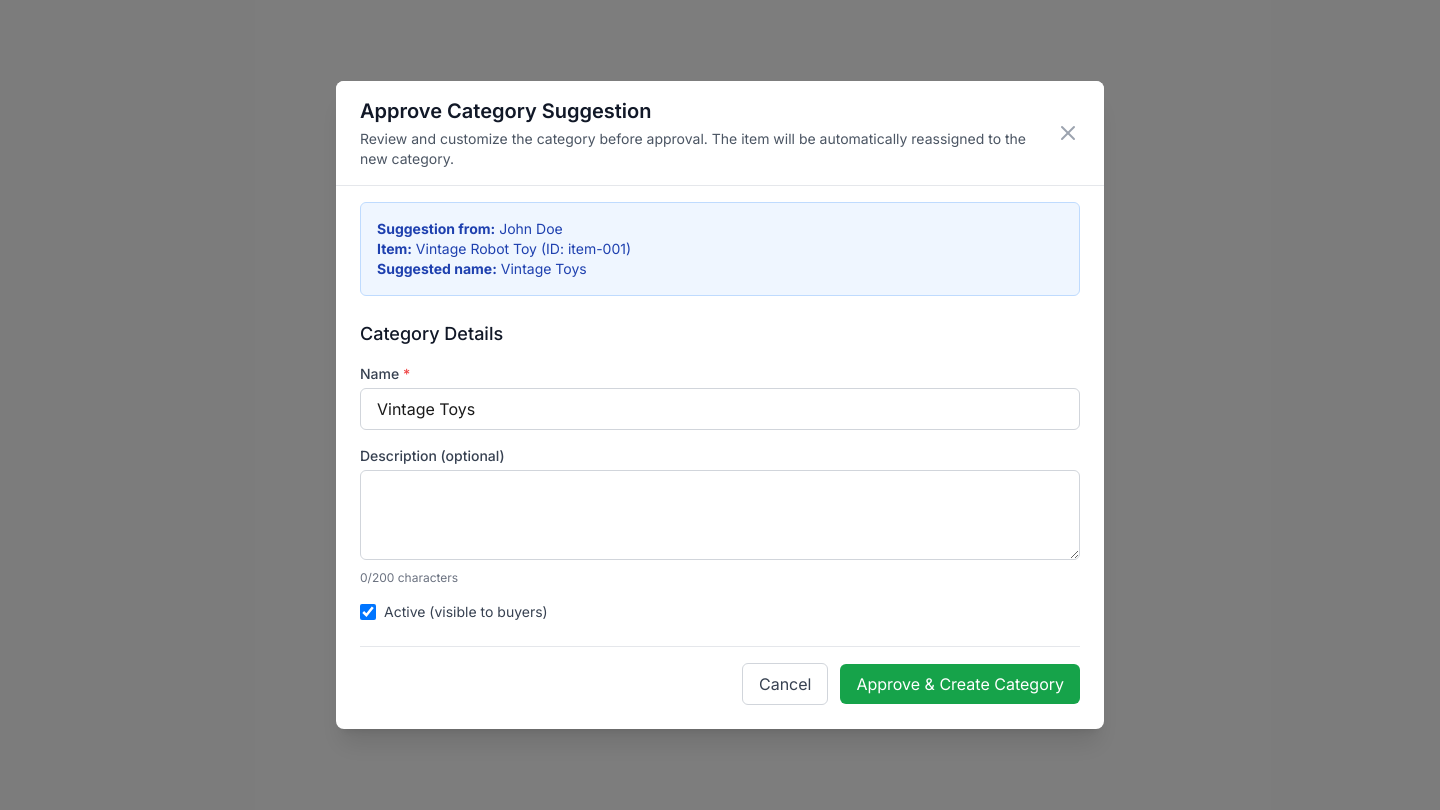
ApproveSuggestionModal › validates required name field
Step 1. Clear the field with test id "approve-form-name" → (720, 409), box left=360, top=388, right=1080, bottom=430
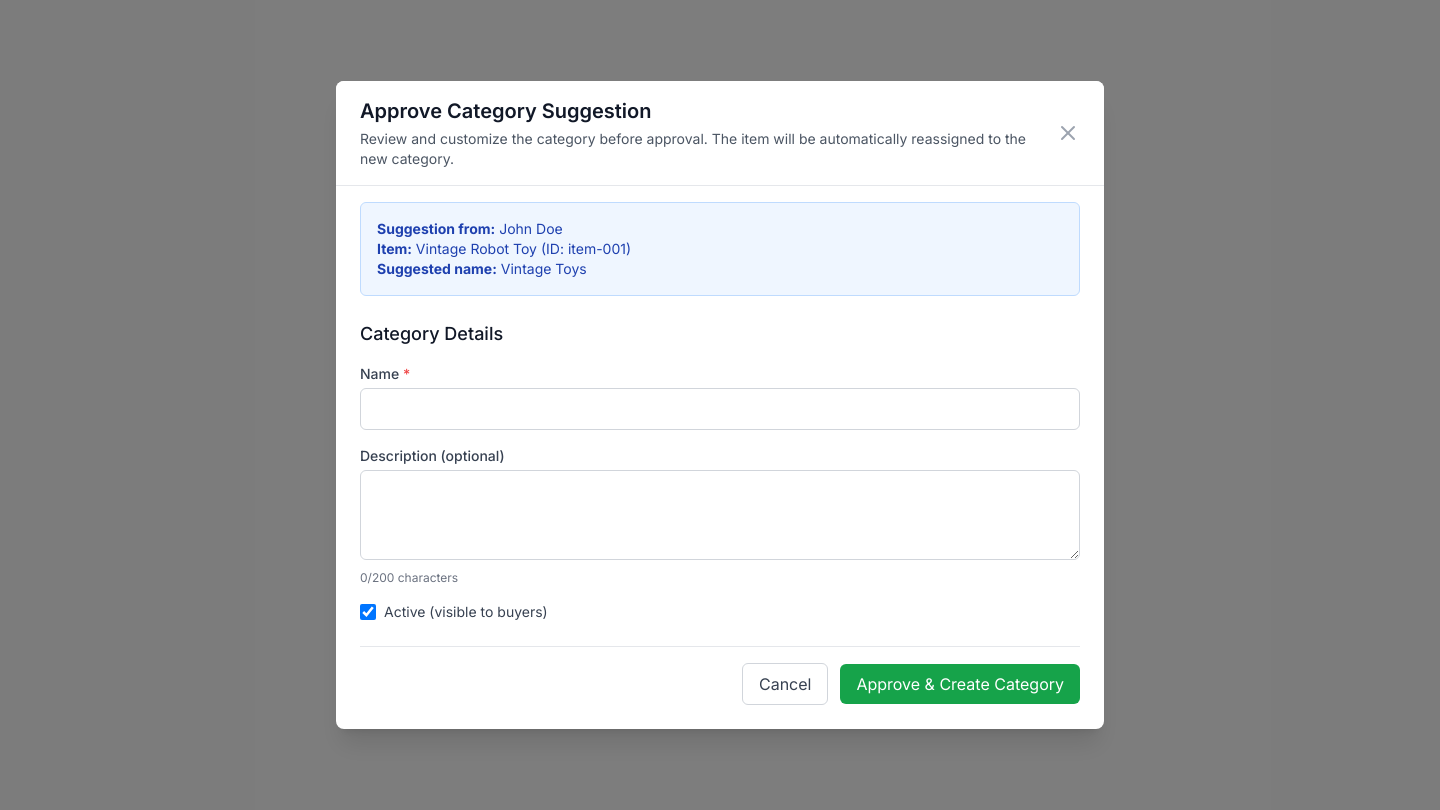
Step 2. Click the button with test id "approve-form-submit" → (960, 684), box left=840, top=664, right=1080, bottom=704
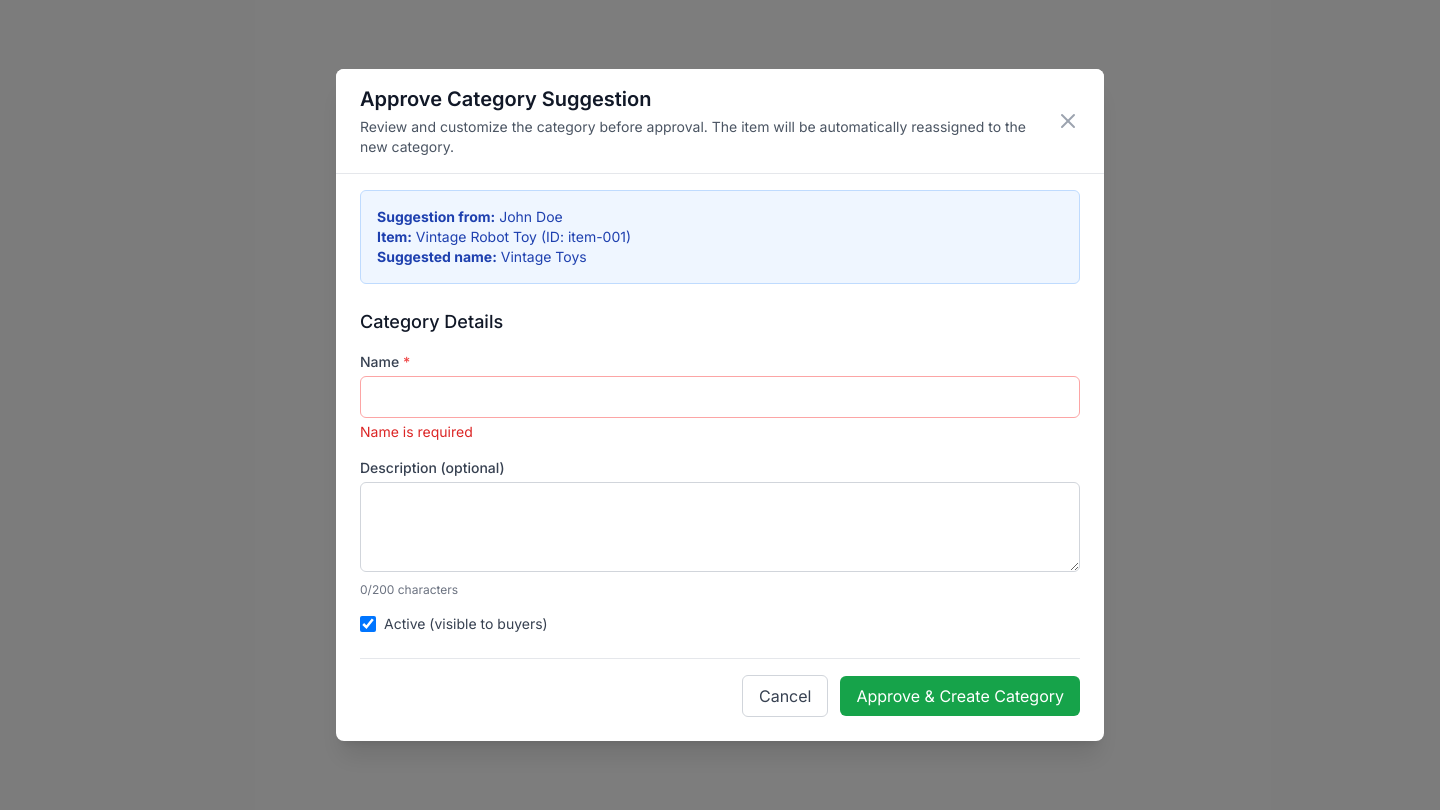
Expected: the text "Name is required" is shown, left=360, top=423, right=473, bottom=440
